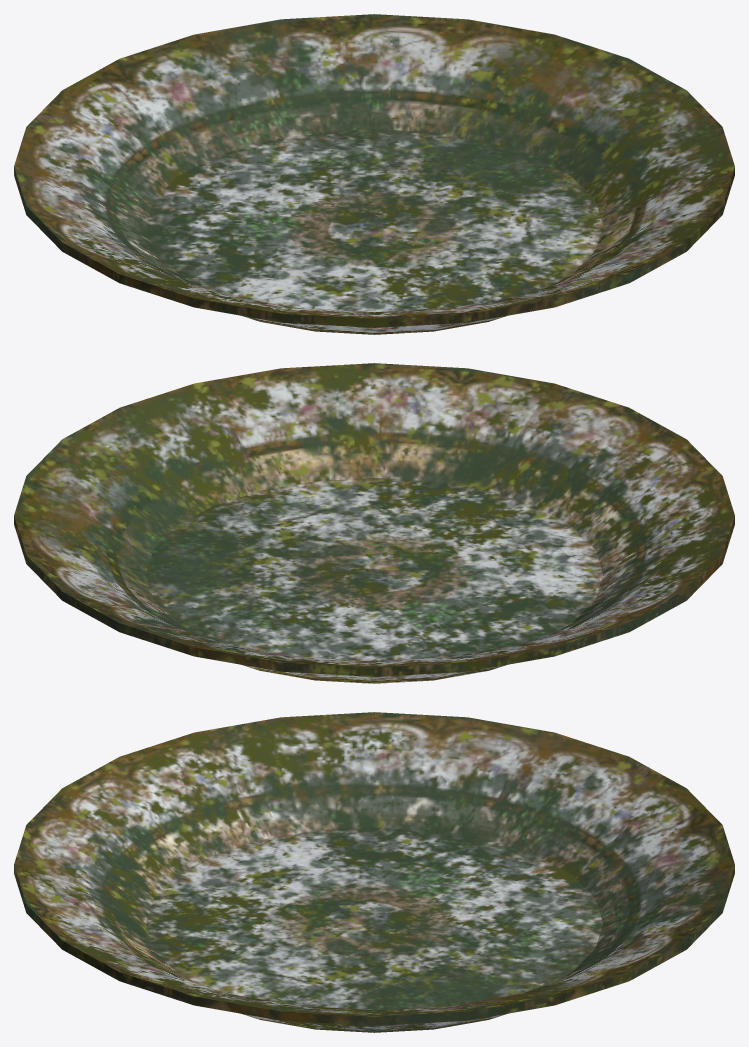
The model's file is SM_Plate.fbx.
The picture shows the model from 3 angles, top to bottom: view 1: azimuth 30°, elevation 25°; view 2: azimuth 150°, elevation 25°; view 3: azimuth 270°, elevation 25°; orthographic projection.
Parts seen in each view (by area): view 1: SM_Plate; view 2: SM_Plate; view 3: SM_Plate.
Boxes of the visible parts, x1,y1,x2,y2 form: SM_Plate: [14, 14, 734, 334]; SM_Plate: [14, 363, 734, 683]; SM_Plate: [14, 712, 734, 1032].
Bounding box in the file's own units: 0.2702 × 0.0297 × 0.2702.
